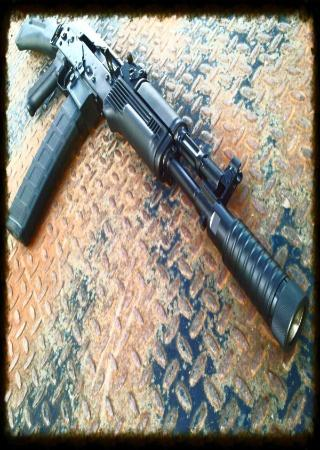weapon: (8, 17, 309, 350)
